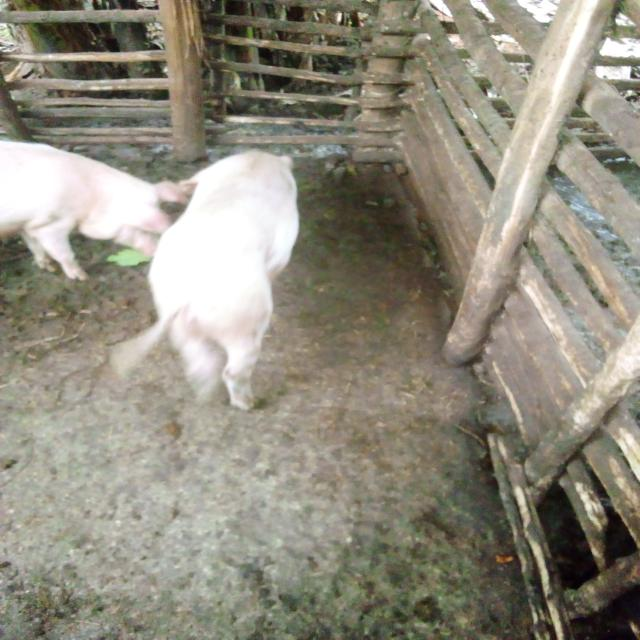pig: (74, 128, 369, 448)
